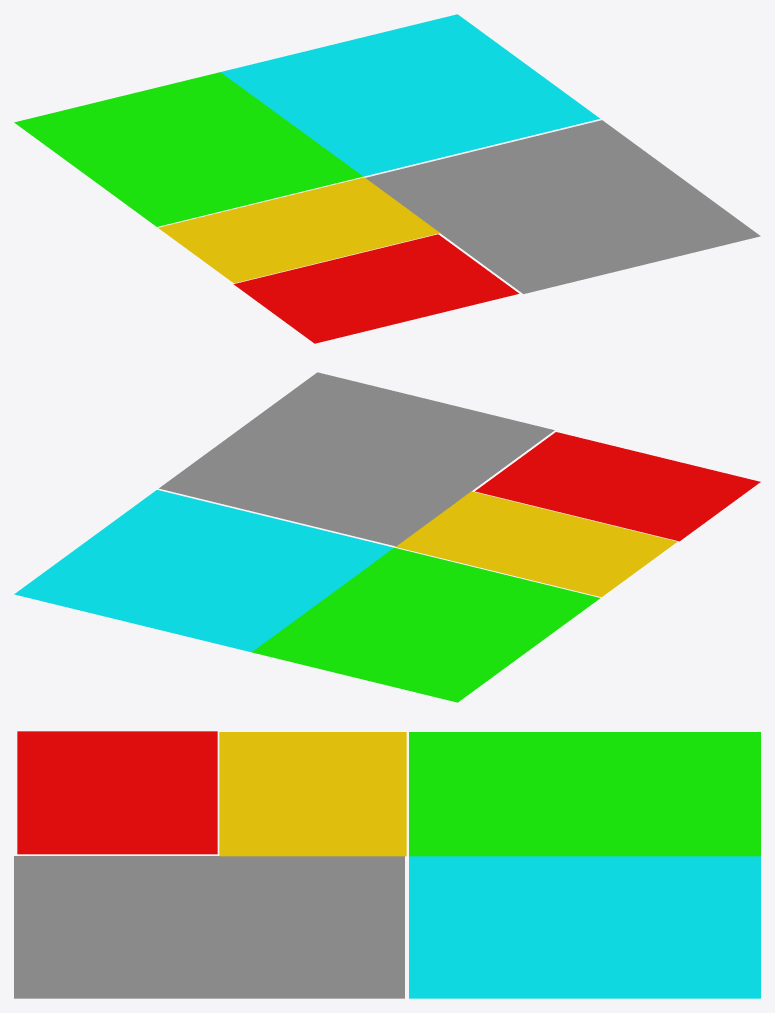
The model's file is sol 1.FBX.
3 renders of one model, top to bottom at view 1: azimuth 30°, elevation 25°; view 2: azimuth 150°, elevation 25°; view 3: azimuth 270°, elevation 25°, orthographic. The views are drawn at different scales.
Parts seen in each view (by area): view 1: Plane005; view 2: Plane005; view 3: Plane005.
Boxes of the visible parts, left/top/right/bottom form: Plane005: left=14, top=14, right=760, bottom=343; Plane005: left=14, top=372, right=760, bottom=702; Plane005: left=14, top=731, right=760, bottom=998.
Size of the model in its own units: 1861 by 1.35e-13 by 2198.
